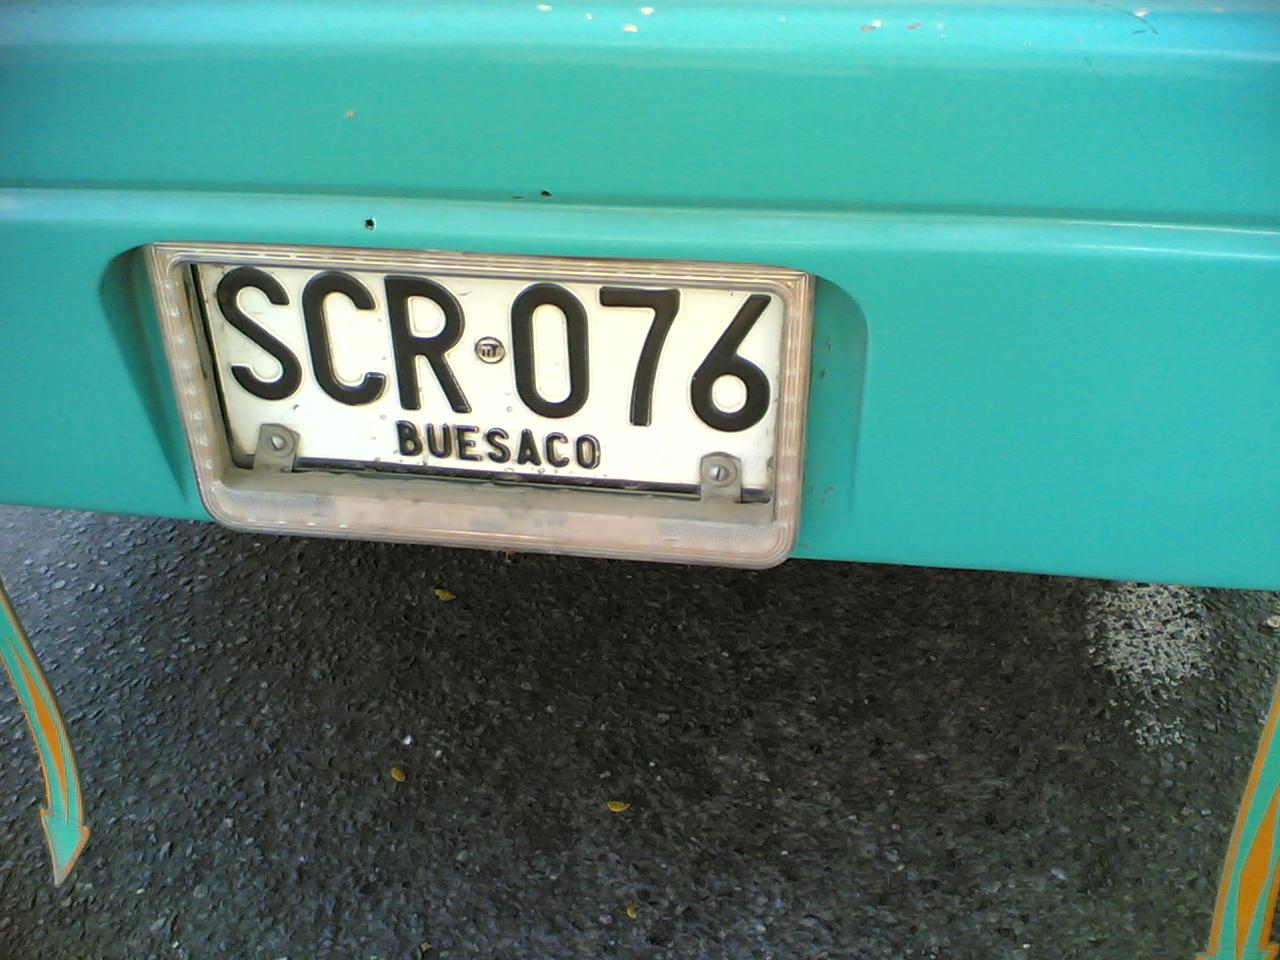placas: (186, 258, 788, 510)
